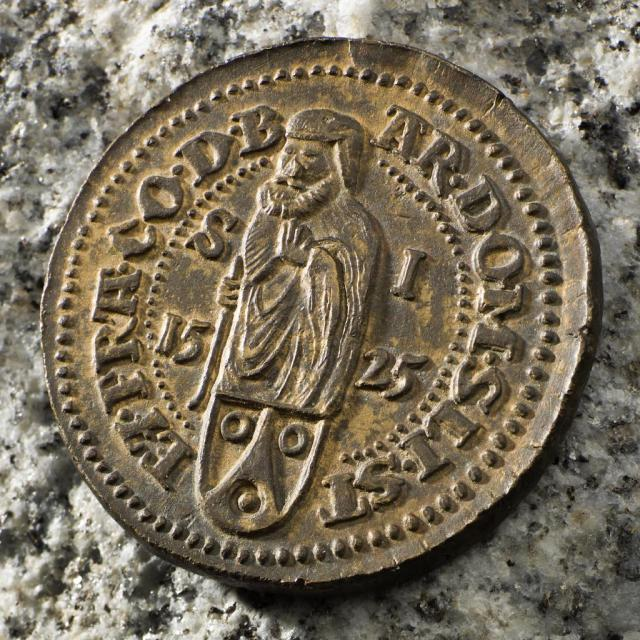Coin: (42, 40, 603, 591)
